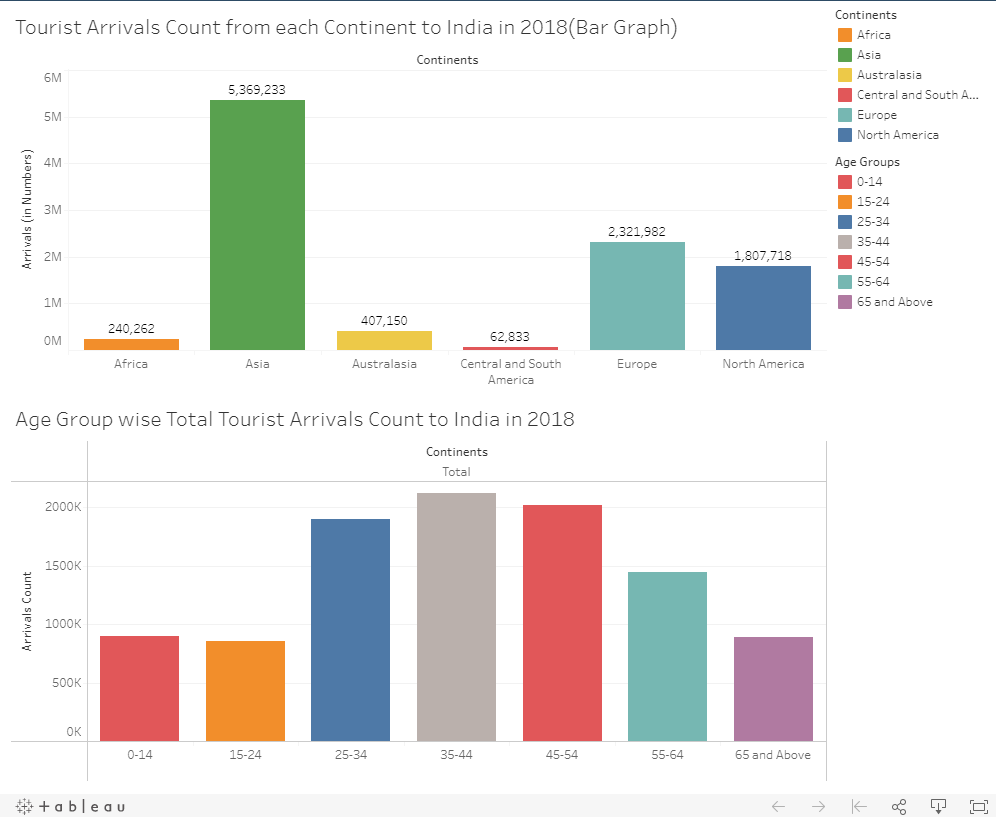

This screenshot's page, from the dashboard's own definition file:
{"tool":"tableau","page":{"name":"Tourist Arrivals to India in 2018 Analysis Dashboard 2","canvas":[1000,800],"ordinal":1},"visuals":[{"type":"worksheet","box":[0,0,1000,800]},{"type":"worksheet","param":"horz","box":[8,8,984,784]},{"type":"worksheet","box":[8,8,824,784]},{"type":"worksheet","title":"Tourist Arrivals Count from each Continent to India in 2018(Bar Graph)","mark":"Automatic","rows":["Arrivals (in Numbers)"],"box":[8,8,824,392]},{"type":"worksheet","param":"vert","box":[832,8,160,784]},{"type":"worksheet","title":"Tourist Arrivals Count from each Continent to India in 2018(Bar Graph)","mark":"Automatic","rows":["Arrivals (in Numbers)"],"param":"[federated.0mzzz6t05cc0xv1be2qun1465lux].[Country of Nationality (group)]","box":[832,8,160,184]},{"type":"worksheet","title":"Age Group wise Total Tourist Arrivals Count to India in 2018 ","mark":"Automatic","param":"[federated.0mzzz6t05cc0xv1be2qun1465lux].[:Measure Names]","box":[832,192,160,209]},{"type":"worksheet","title":"Age Group wise Total Tourist Arrivals Count to India in 2018 ","mark":"Automatic","box":[8,400,824,392]}]}

Visuals, with their boxes on the page's 1000x800 design canvas (x1, y1, x2, y2). These are canvas units, not pixel positions in the 996x817 screenshot, which may show the page scaled, cropped or inside an application window:
worksheet: [0,0,1000,800]
worksheet: [8,8,992,792]
worksheet: [8,8,832,792]
"Tourist Arrivals Count from each Continent to India in 2018(Bar Graph)" worksheet: [8,8,832,400]
worksheet: [832,8,992,792]
"Tourist Arrivals Count from each Continent to India in 2018(Bar Graph)" worksheet: [832,8,992,192]
"Age Group wise Total Tourist Arrivals Count to India in 2018 " worksheet: [832,192,992,401]
"Age Group wise Total Tourist Arrivals Count to India in 2018 " worksheet: [8,400,832,792]
